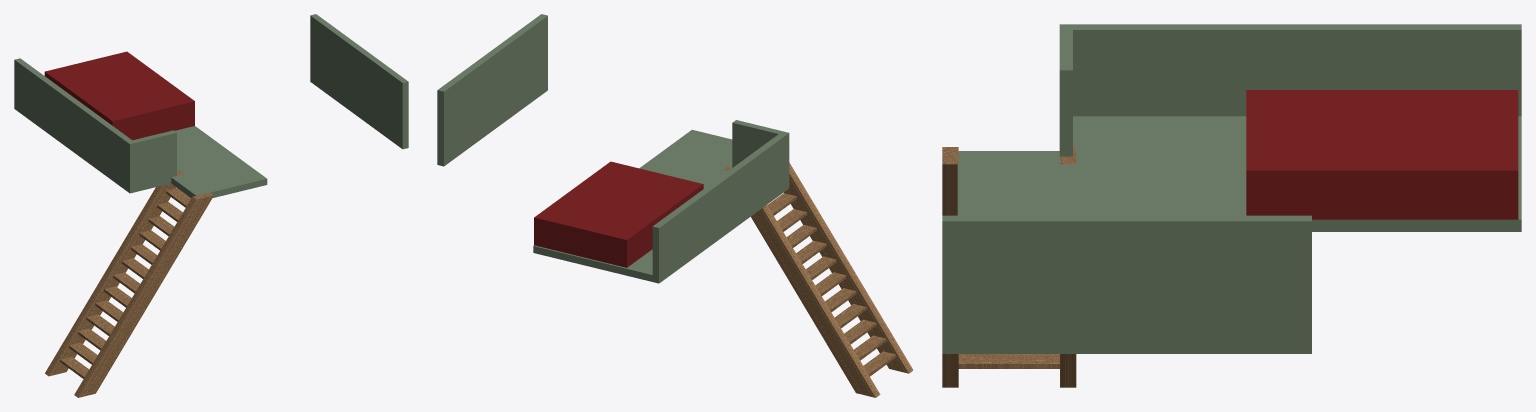
File: Dach_Hochbett.gltf
3 renders of one model, left to right at view 1: azimuth 30°, elevation 25°; view 2: azimuth 150°, elevation 25°; view 3: azimuth 270°, elevation 25°, orthographic. The views are drawn at different scales.
Parts seen in each view (by area): view 1: Curve.065, KinderTreppe.001, Curve.070, Curve.067, Curve.069, _Curve.012, Curve.068, Curve.066; view 2: Curve.065, Curve.070, KinderTreppe.001, Curve.067, _Curve.012, Curve.069, Curve.066, Curve.068; view 3: Curve.070, Curve.065, Curve.067, Curve.069, Curve.066, KinderTreppe.001, Curve.068, _Curve.012.
Part boxes in pixels (box(x1,y1,x2,y2)): Curve.065: box(44, 51, 194, 140); KinderTreppe.001: box(45, 171, 213, 397); Curve.070: box(310, 14, 408, 149); Curve.067: box(14, 58, 135, 187); Curve.069: box(171, 126, 267, 197); _Curve.012: box(60, 188, 191, 378); Curve.068: box(133, 130, 176, 185); Curve.066: box(14, 103, 171, 193); Curve.065: box(534, 161, 703, 267); Curve.070: box(437, 14, 547, 166); KinderTreppe.001: box(723, 162, 913, 397); Curve.067: box(652, 131, 789, 276); _Curve.012: box(767, 193, 896, 376); Curve.069: box(533, 129, 732, 272); Curve.066: box(612, 182, 789, 283); Curve.068: box(732, 120, 782, 167); Curve.070: box(942, 215, 1311, 353); Curve.065: box(1246, 90, 1518, 219); Curve.067: box(1059, 24, 1521, 116); Curve.069: box(957, 151, 1521, 231); Curve.066: box(1073, 116, 1521, 150); KinderTreppe.001: box(942, 147, 1076, 387); Curve.068: box(1059, 30, 1072, 156); _Curve.012: box(958, 354, 1059, 368).
Size of the model in its own units: 5.61 by 3.83 by 4.26.
4 materials, 1 textured.
